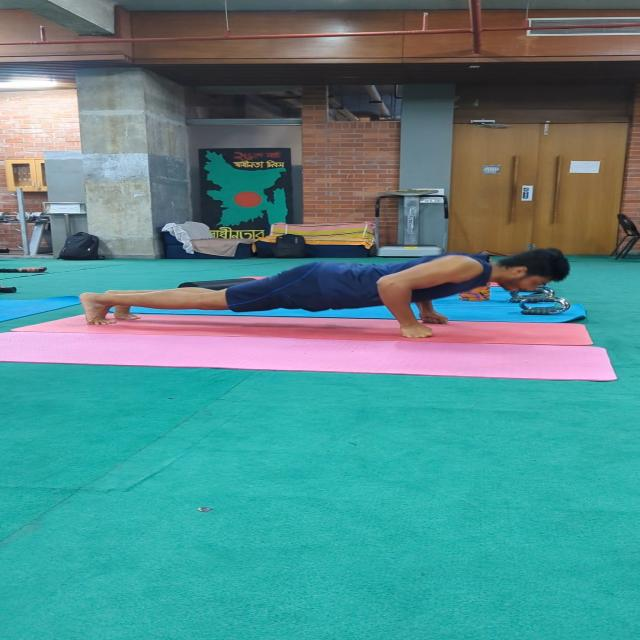Normal_PushUps: (62, 237, 584, 355)
